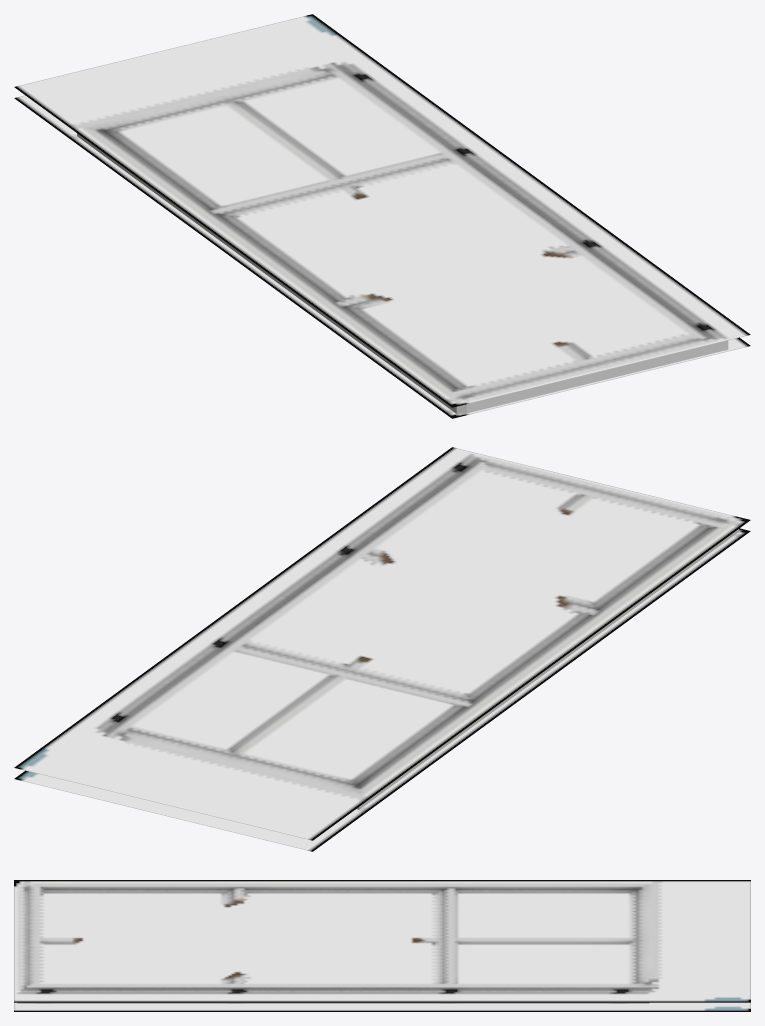
The model's file is pz_native_fixtures_windows_white_103_frame.obj.
3 views of the same model, one above another, from view 1: azimuth 30°, elevation 25°; view 2: azimuth 150°, elevation 25°; view 3: azimuth 270°, elevation 25° (orthographic). The views are drawn at different scales.
Visible parts, largest first — view 1: pz_native_fixtures_windows_white_103_frame; view 2: pz_native_fixtures_windows_white_103_frame; view 3: pz_native_fixtures_windows_white_103_frame.
Part boxes in pixels (bbox=[...]): pz_native_fixtures_windows_white_103_frame: bbox=[14, 14, 750, 418]; pz_native_fixtures_windows_white_103_frame: bbox=[14, 447, 750, 851]; pz_native_fixtures_windows_white_103_frame: bbox=[14, 880, 750, 1011].
Size of the model in its own units: 1.12 by 0.04 by 2.86.
1 material, 1 textured.
